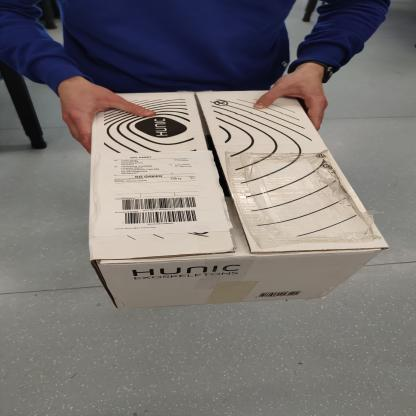-: (61, 68, 394, 312)
